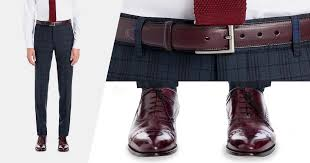F_belt: (111, 10, 310, 63), (30, 15, 74, 30)
F_dress pants: (32, 24, 76, 142)
